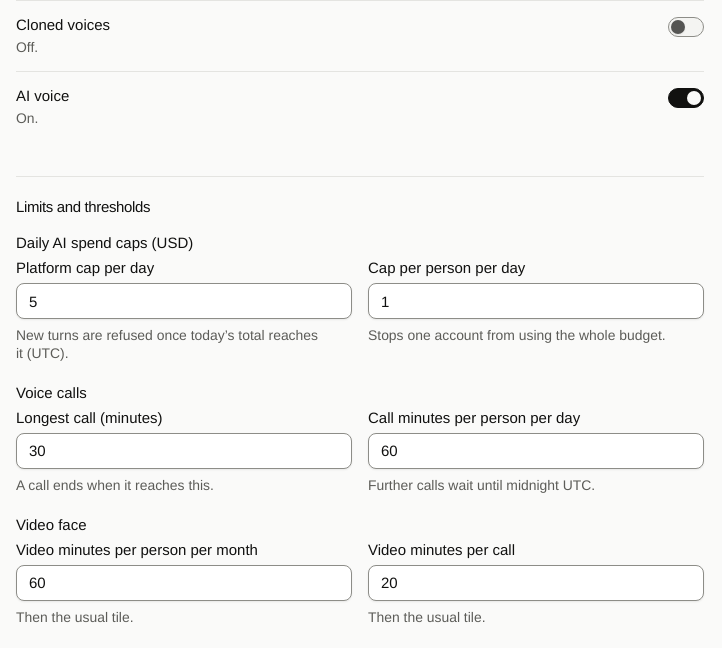
it: limits form › rejects a per-person cap above the platform cap
(page scrolled)
Step 1. Replace the text in the number field labelled "Cap per person per day" with "9" → point(536, 301), box x1=368 y1=283 x2=704 y2=319
(page scrolled)
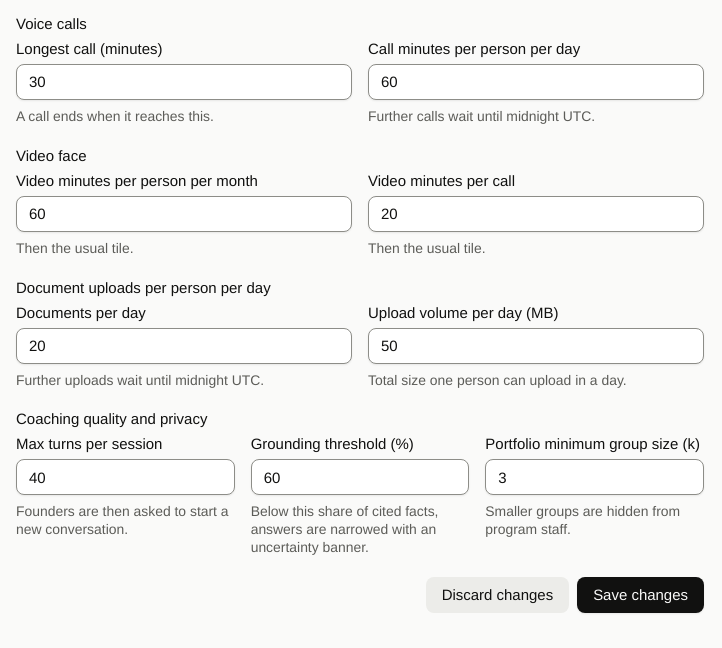
Step 2. Click the button "Save changes" → point(641, 595), box x1=577 y1=577 x2=704 y2=613
(page scrolled)
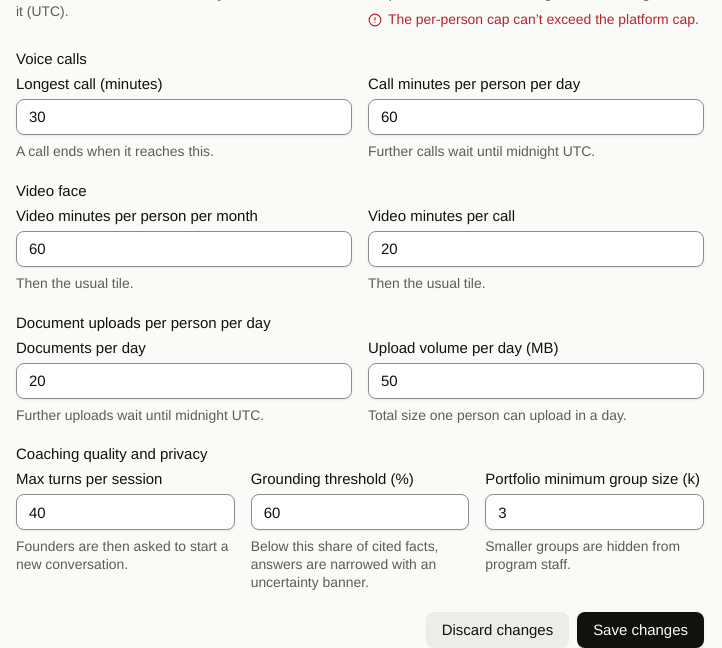
Expected: the text "The per-person cap can’t exceed the platform cap." is shown, x1=388 y1=11 x2=699 y2=29
